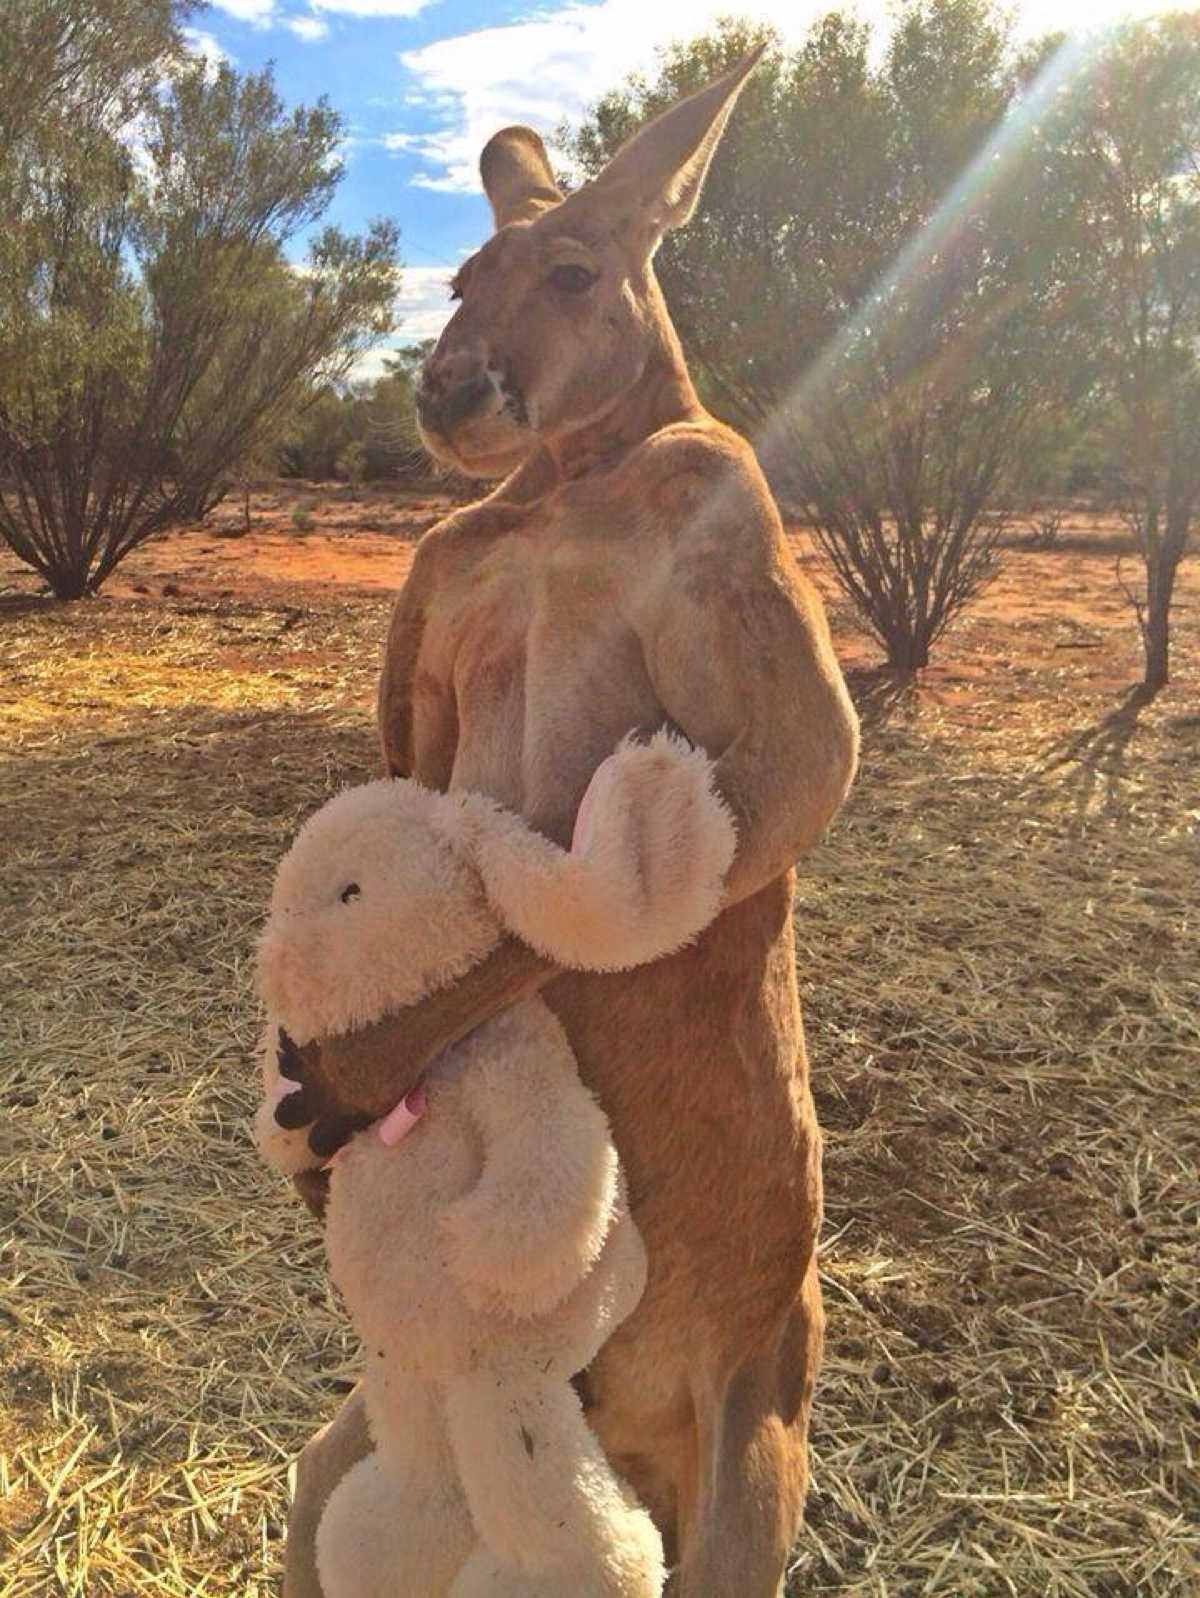kangaroo: (282, 39, 871, 1585)
